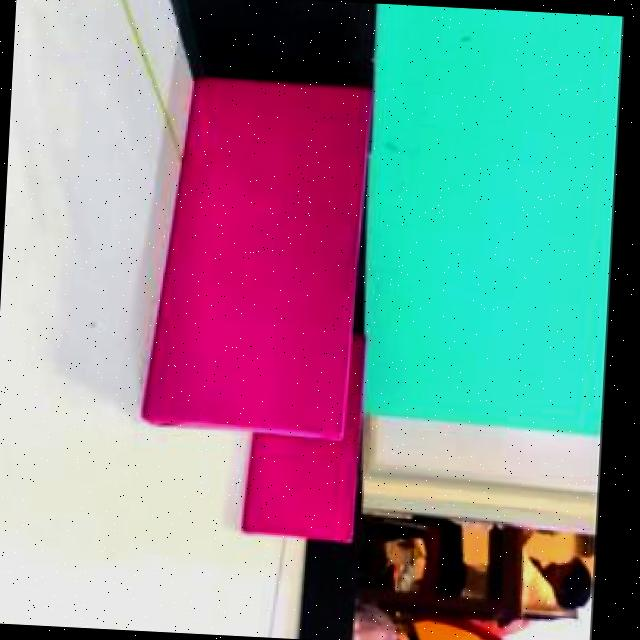xparking: (136, 78, 362, 432), (245, 434, 358, 536)
